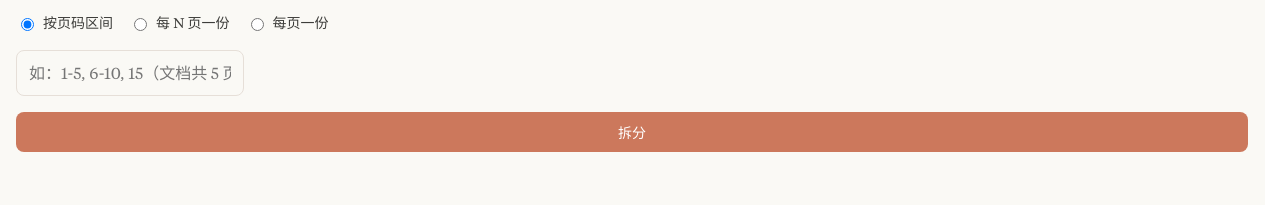
Test: PdfToolSplit › shows a clear error for an out-of-range range
The width and height of the screenshot is (1265, 205).
In the field named "页码区间": x=130, y=73 [16, 50, 244, 96], type "1-99"
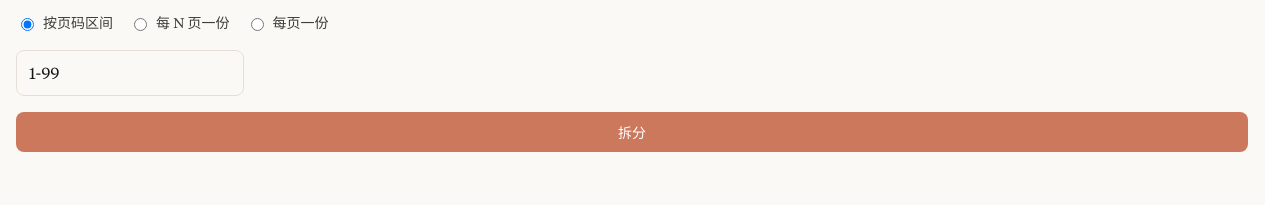
Click the button "拆分": x=632, y=132 [16, 112, 1248, 152]
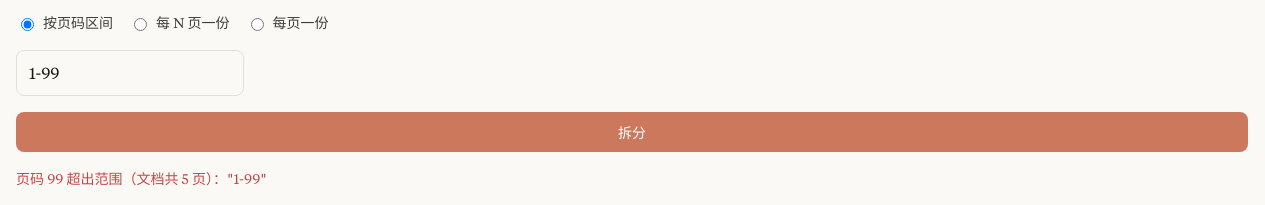
Result: the text "页码 99 超出范围（文档共 5 页）：\"1-99\"" is shown at [16, 170, 267, 188]
